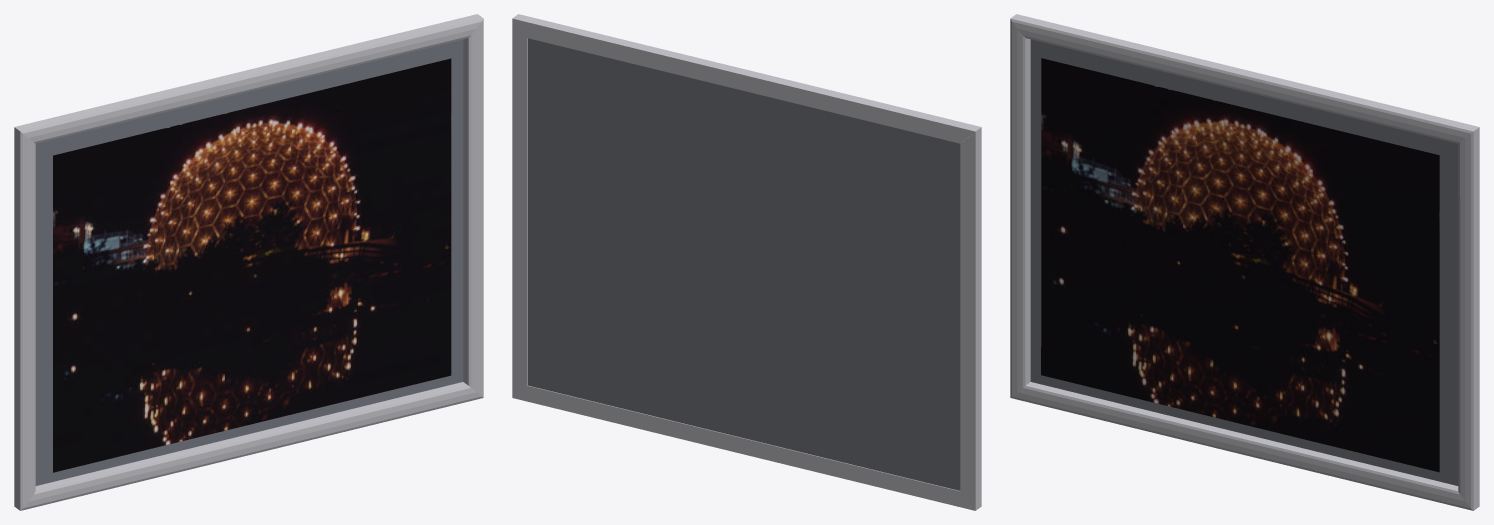
Rendered from sweethome3d-contributions-frame-toronto-ontario-place-177.glb.
3 views of the same model, side by side, from view 1: azimuth 30°, elevation 25°; view 2: azimuth 150°, elevation 25°; view 3: azimuth 330°, elevation 25° (orthographic).
Visible parts, largest first — view 1: Photo_Cube_Material_TorontoOntarioPlace.j, MetalFrame_Cylinder_Aluminium.011, Frame_Black_Material.014; view 2: Frame_Black_Material.014, MetalFrame_Cylinder_Aluminium.011; view 3: Photo_Cube_Material_TorontoOntarioPlace.j, MetalFrame_Cylinder_Aluminium.011, Frame_Black_Material.014.
Boxes of the visible parts, bbox=[...] form: Photo_Cube_Material_TorontoOntarioPlace.j: bbox=[53, 58, 451, 472]; MetalFrame_Cylinder_Aluminium.011: bbox=[14, 14, 483, 510]; Frame_Black_Material.014: bbox=[35, 39, 463, 485]; Frame_Black_Material.014: bbox=[528, 38, 960, 490]; MetalFrame_Cylinder_Aluminium.011: bbox=[512, 14, 981, 510]; Photo_Cube_Material_TorontoOntarioPlace.j: bbox=[1041, 58, 1439, 472]; MetalFrame_Cylinder_Aluminium.011: bbox=[1010, 14, 1479, 510]; Frame_Black_Material.014: bbox=[1030, 39, 1458, 485].
Bounding box in the file's own units: 61.16 × 47.86 × 1.6.
3 materials, 1 textured.
